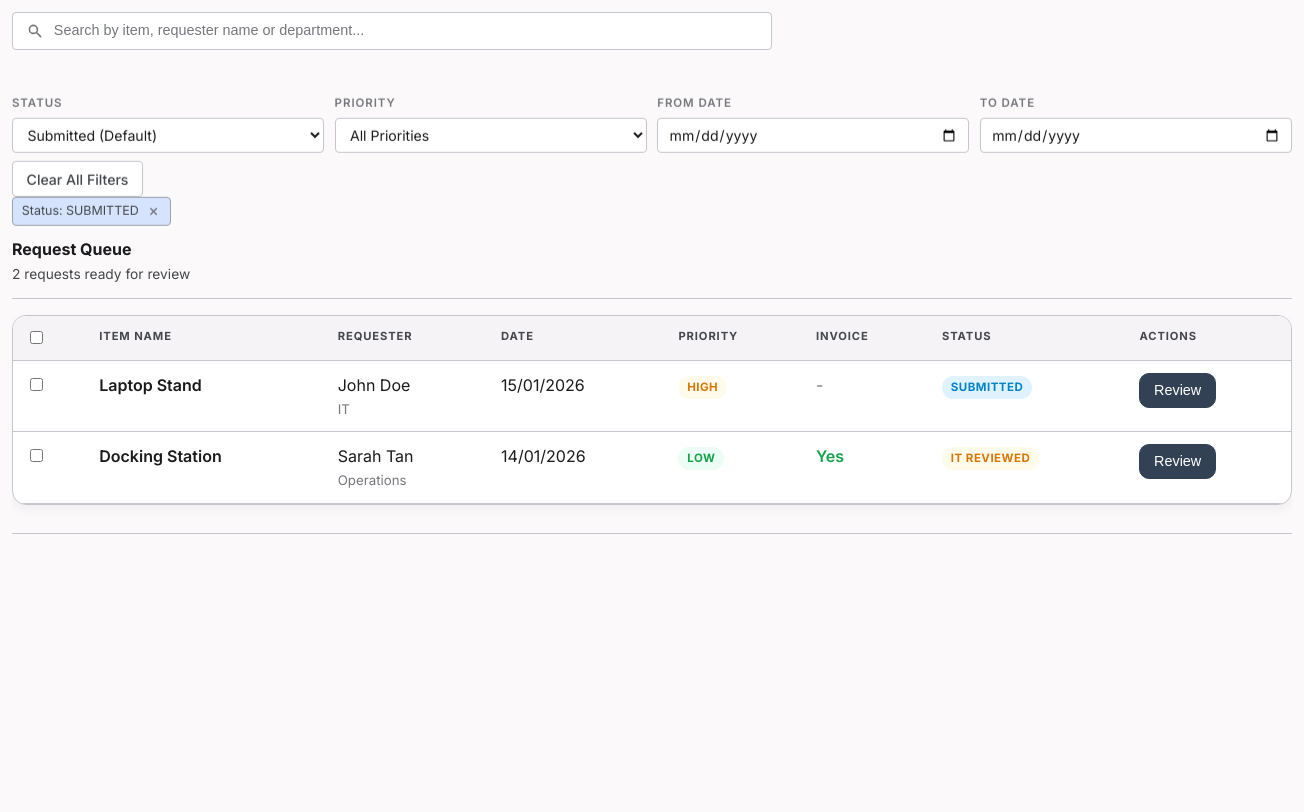
Test: ReviewRequestsPage › renders sticky workspace pattern and toggles bulk actions by selection count
expect the element with class "workspace-filter-bar" is shown: met, box x1=12 y1=90 x2=1292 y2=230
expect the element with class "workspace-table-container" is shown: met, box x1=12 y1=315 x2=1292 y2=504
What coordinates should you click on to do the following:
click the checkbox named "Select request Laptop Stand"
I would click on:
 (36, 384)
Its box is x1=30 y1=378 x2=43 y2=391.
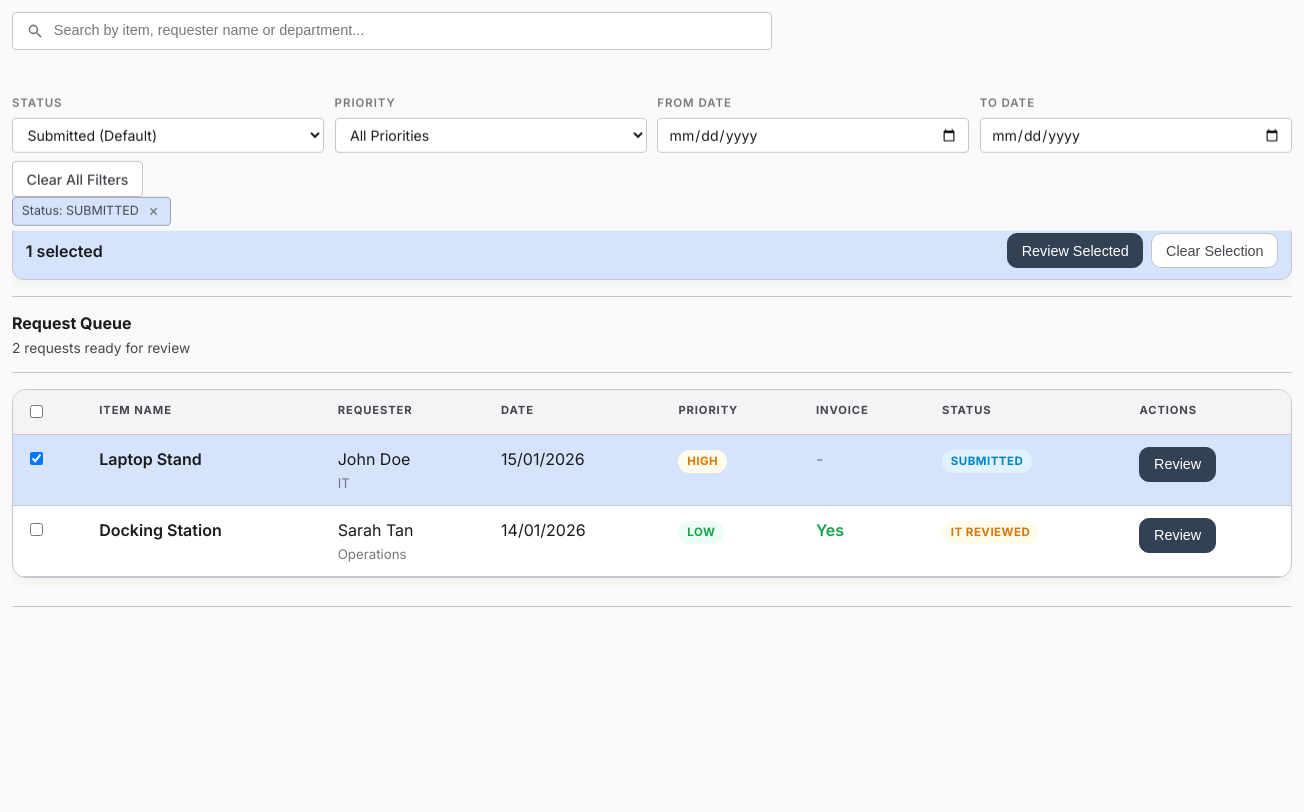
expect the text "1 selected" is shown: met, box x1=26 y1=239 x2=103 y2=263
What coordinates should you click on to do the following:
click the checkbox named "Select request Laptop Stand"
I would click on:
 (36, 458)
Its box is x1=30 y1=452 x2=43 y2=465.
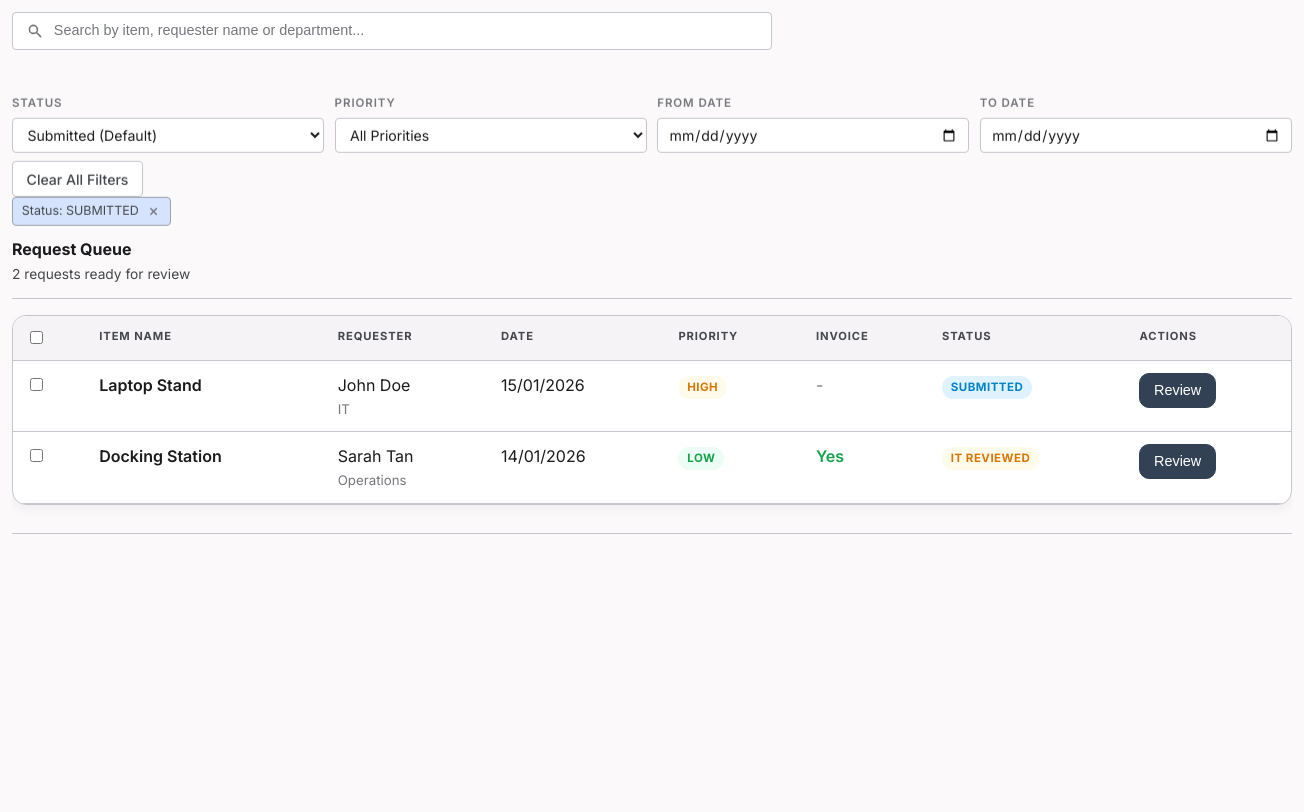
expect the text "1 selected" is gone: met
